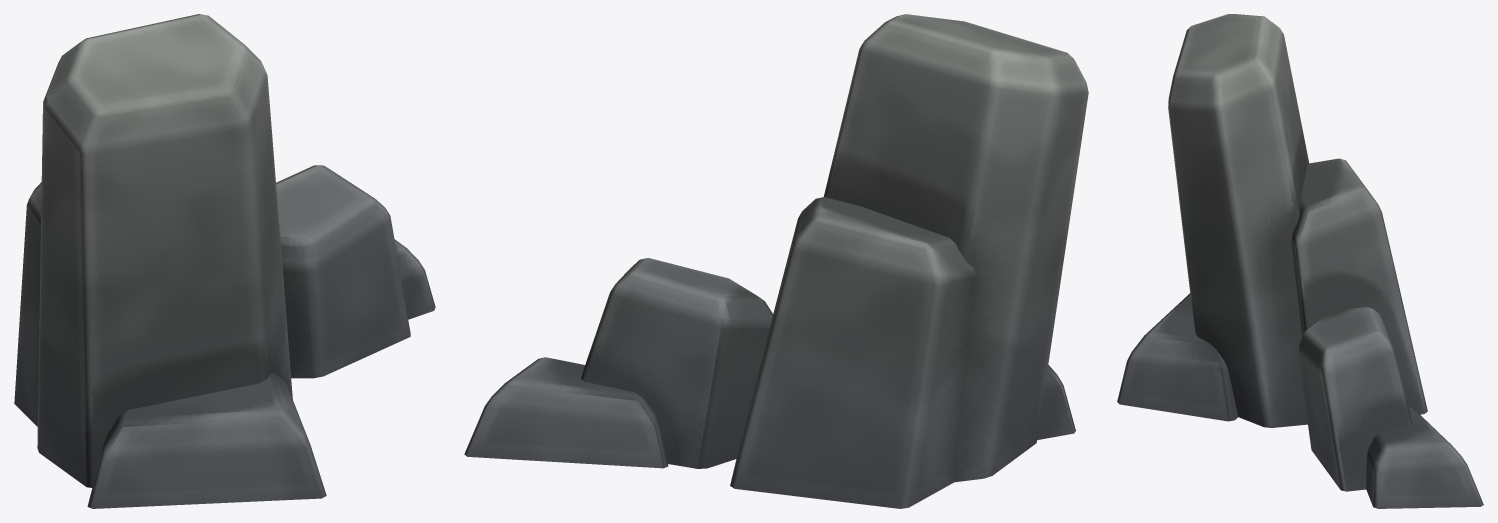
Rendered from crag_3.glb.
3 renders of one model, left to right at view 1: azimuth 30°, elevation 25°; view 2: azimuth 150°, elevation 25°; view 3: azimuth 270°, elevation 25°, orthographic. The views are drawn at different scales.
Parts seen in each view (by area): view 1: crag_3; view 2: crag_3; view 3: crag_3.
Part boxes in pixels (box(x1,y1,x2,y2)): crag_3: box(14, 14, 435, 508); crag_3: box(464, 14, 1088, 508); crag_3: box(1117, 14, 1483, 508).
Bounding box in the file's own units: 2 × 1.7 × 1.7.
1 material, 1 textured.
